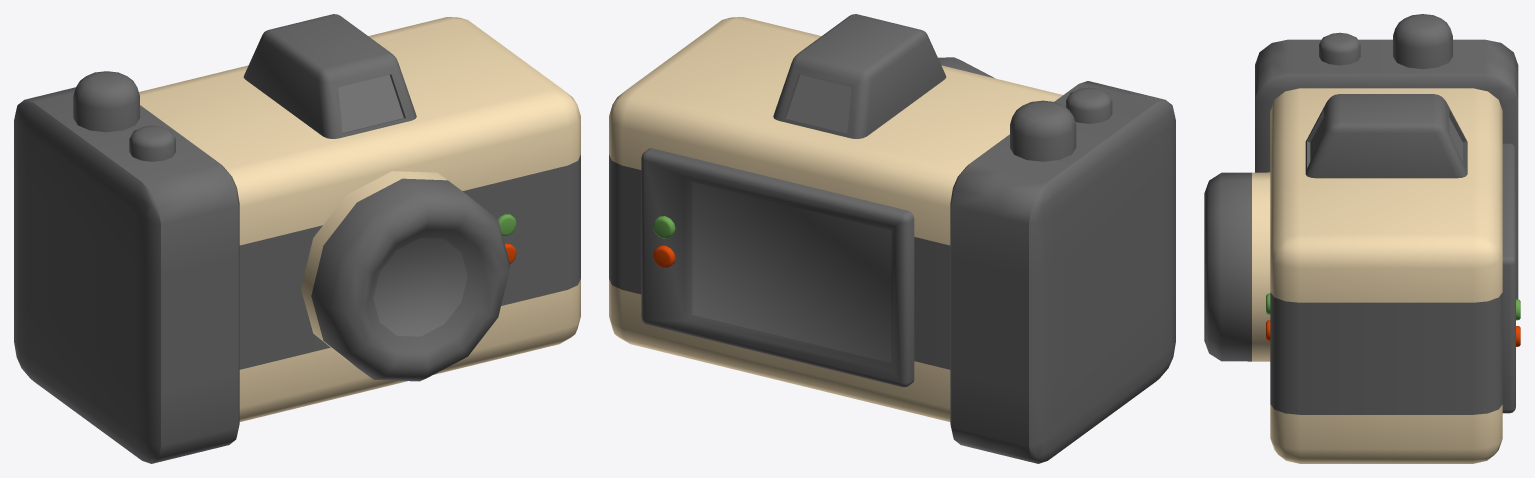
File: Camera_1.fbx
3 views of the same model, side by side, from view 1: azimuth 30°, elevation 25°; view 2: azimuth 150°, elevation 25°; view 3: azimuth 270°, elevation 25° (orthographic). The views are drawn at different scales.
Parts seen in each view (by area): view 1: Camera_1; view 2: Camera_1; view 3: Camera_1.
Boxes of the visible parts, bbox=[...] form: Camera_1: bbox=[14, 14, 580, 463]; Camera_1: bbox=[609, 14, 1175, 463]; Camera_1: bbox=[1204, 14, 1520, 463].
Bounding box in the file's own units: 0.2765 × 0.1894 × 0.1881.
